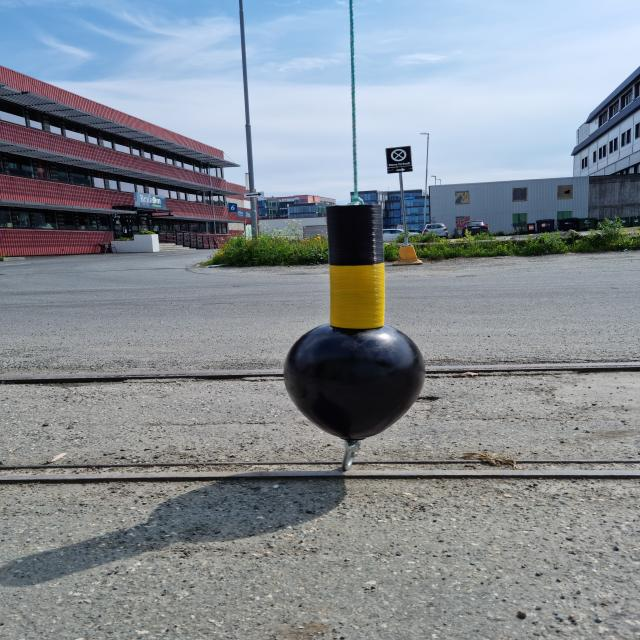east: (285, 204, 425, 440)
